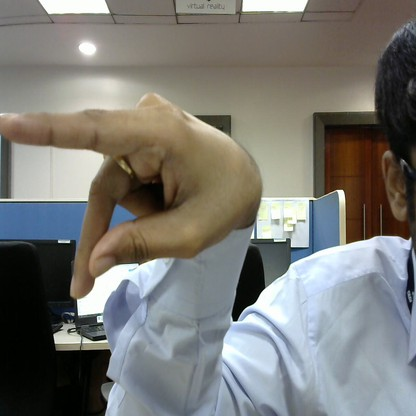p: (1, 83, 276, 300)
